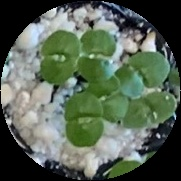Basil: (125, 88, 176, 132), (67, 91, 105, 147), (38, 30, 75, 86), (117, 51, 168, 91), (78, 28, 112, 77), (90, 76, 125, 123)
